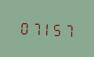five: (51, 20, 61, 37)
one: (40, 19, 50, 37)
seven: (62, 20, 72, 38), (29, 19, 39, 36)
zero: (18, 18, 28, 36)
